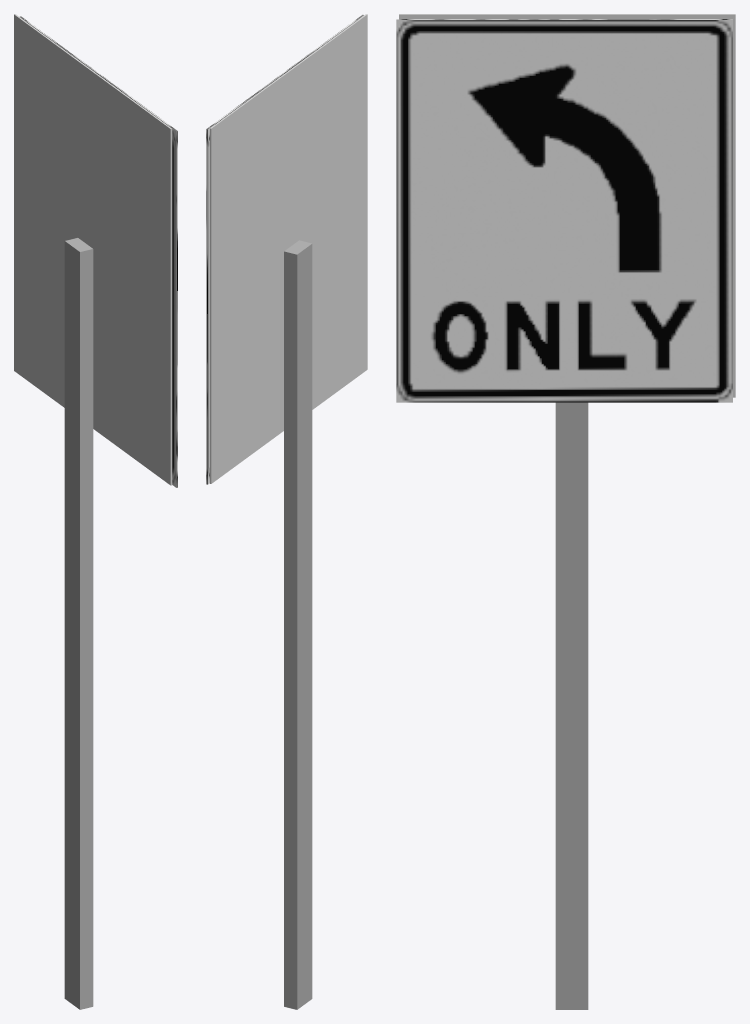
The model's file is left_turn_only.dae.
3 views of the same model, side by side, from view 1: azimuth 30°, elevation 25°; view 2: azimuth 150°, elevation 25°; view 3: azimuth 270°, elevation 25° (orthographic). The views are drawn at different scales.
Visible parts, largest first — view 1: Cube_002, Cube_001, Cube; view 2: Cube_002, Cube_001, Cube; view 3: Cube, Cube_001, Cube_002.
Part boxes in pixels (x1,y1,x2,y2): Cube_002: [14, 14, 172, 485]; Cube_001: [64, 238, 93, 1009]; Cube: [20, 16, 177, 487]; Cube_002: [210, 14, 367, 483]; Cube_001: [284, 240, 312, 1009]; Cube: [206, 14, 363, 484]; Cube: [396, 19, 732, 402]; Cube_001: [555, 402, 588, 1009]; Cube_002: [399, 14, 735, 397].
Size of the model in its own units: 0.0799 by 0.9209 by 2.99.
